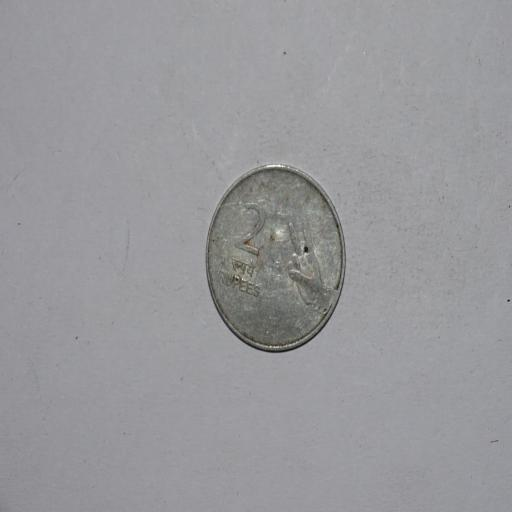rupee2: (199, 161, 346, 357)
